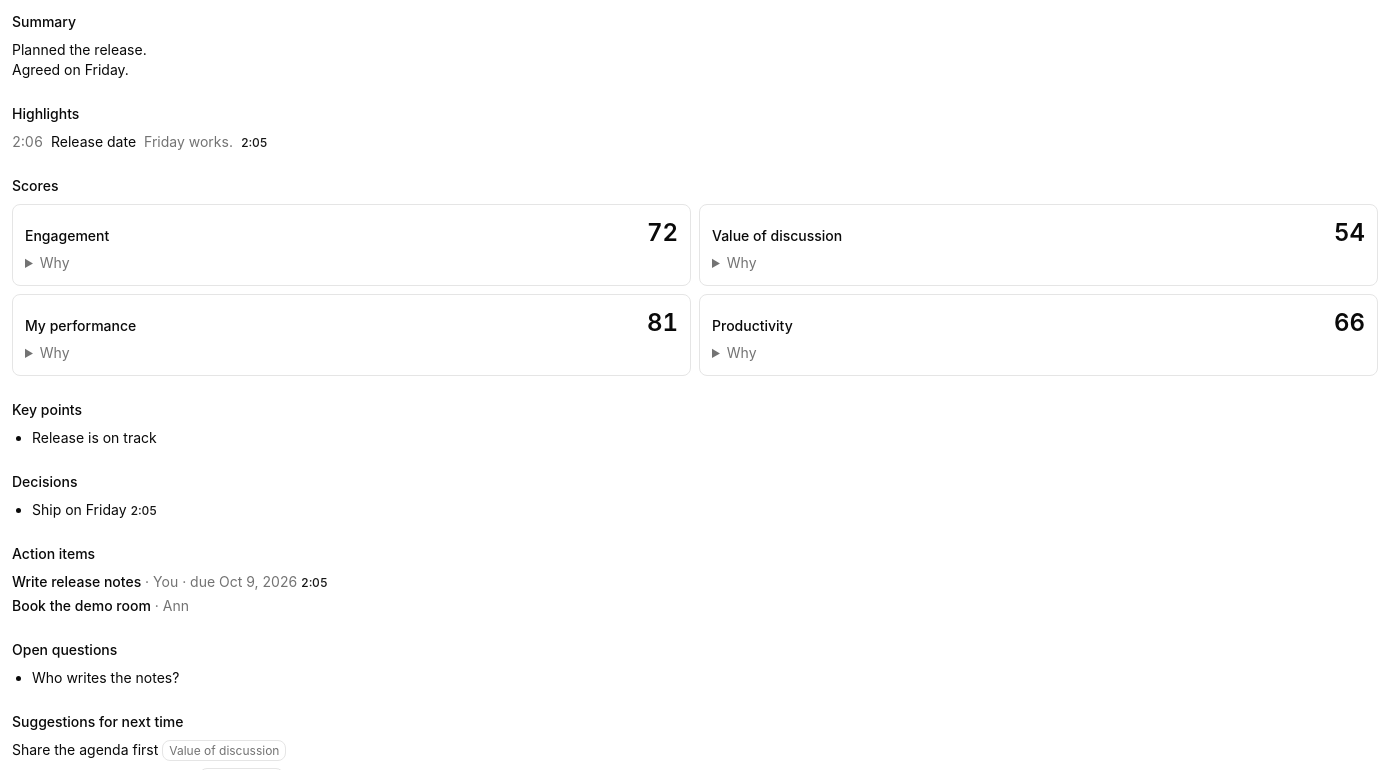
Test: ReportView (FR-4.3, FR-5.5) › shows the four scores and why
The image size is (1378, 770).
Click the heading "Why" below "72": [55, 262] box [40,254,70,271]
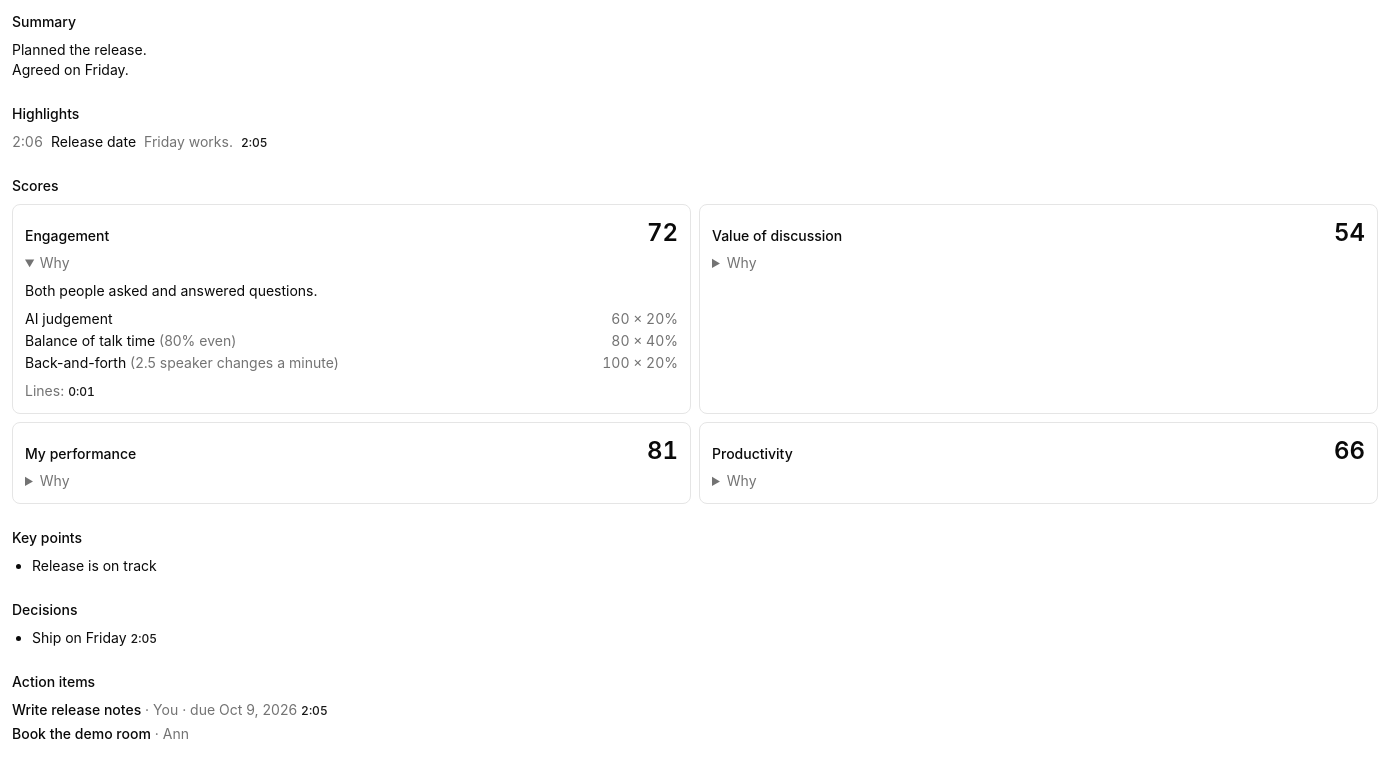
Check: the text "Both people asked and answered questions." is shown, box [25,282,318,299]
Check: the text "Balance of talk time" is shown, box [25,332,155,349]
Check: the text "(80% even)" is shown, box [155,332,236,349]
